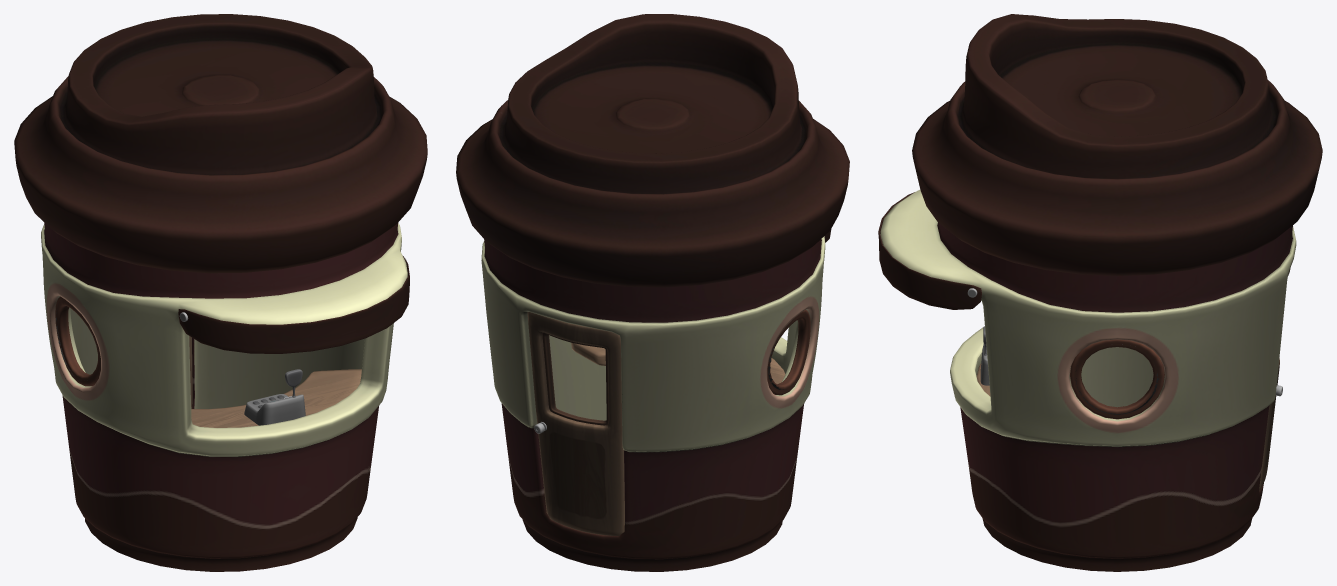
Rendered from kiosk_v3_fbx.fbx.
3 views of the same model, side by side, from view 1: azimuth 30°, elevation 25°; view 2: azimuth 150°, elevation 25°; view 3: azimuth 270°, elevation 25° (orthographic). The views are drawn at different scales.
Parts seen in each view (by area): view 1: kiosk_v3; view 2: kiosk_v3; view 3: kiosk_v3.
Boxes of the visible parts, box(x1,y1,x2,y2) form: kiosk_v3: box(14, 14, 427, 571); kiosk_v3: box(456, 14, 849, 571); kiosk_v3: box(878, 14, 1322, 571).
Bounding box in the file's own units: 216 × 268 × 234.
1 material, 1 textured.
